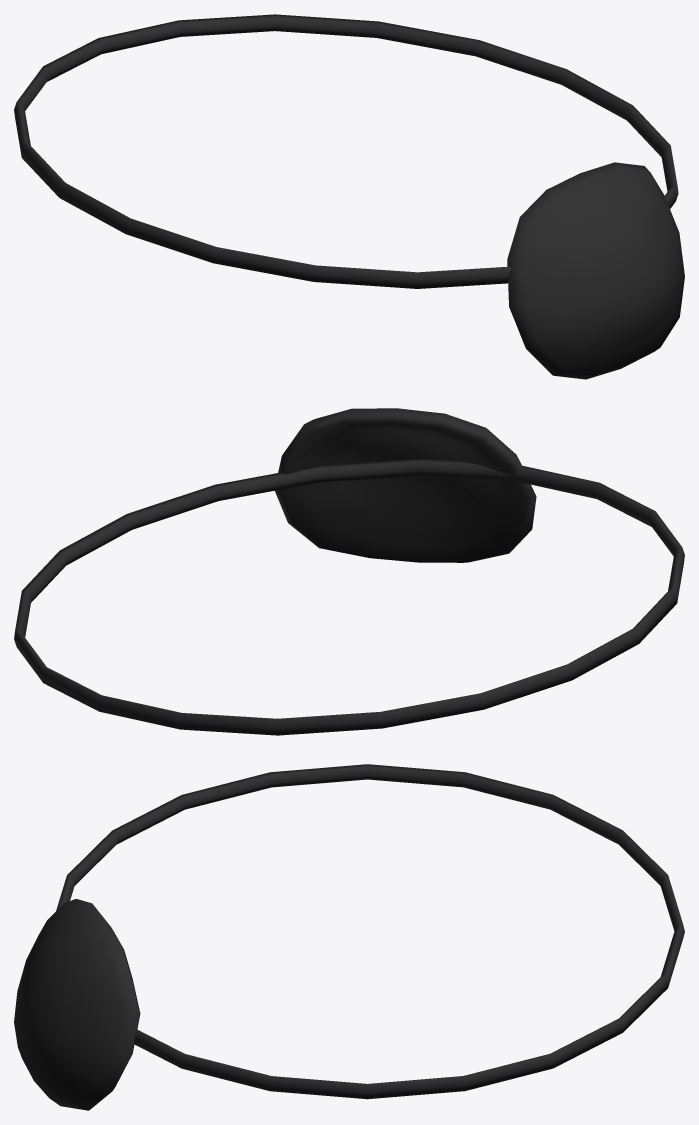
File: EYE_eyepatch.gltf
3 renders of one model, top to bottom at view 1: azimuth 30°, elevation 25°; view 2: azimuth 150°, elevation 25°; view 3: azimuth 270°, elevation 25°, orthographic. The views are drawn at different scales.
Parts seen in each view (by area): view 1: eyepatch1; view 2: eyepatch1; view 3: eyepatch1.
Part boxes in pixels (x1,y1,x2,y2): eyepatch1: (14,14,684,379); eyepatch1: (14,408,684,735); eyepatch1: (14,764,684,1110).
Size of the model in its own units: 0.7154 by 0.2056 by 0.7704.
1 material, 1 textured.
